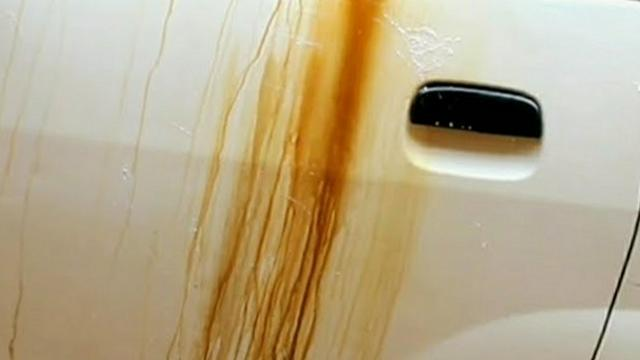rust: (206, 4, 371, 360)
